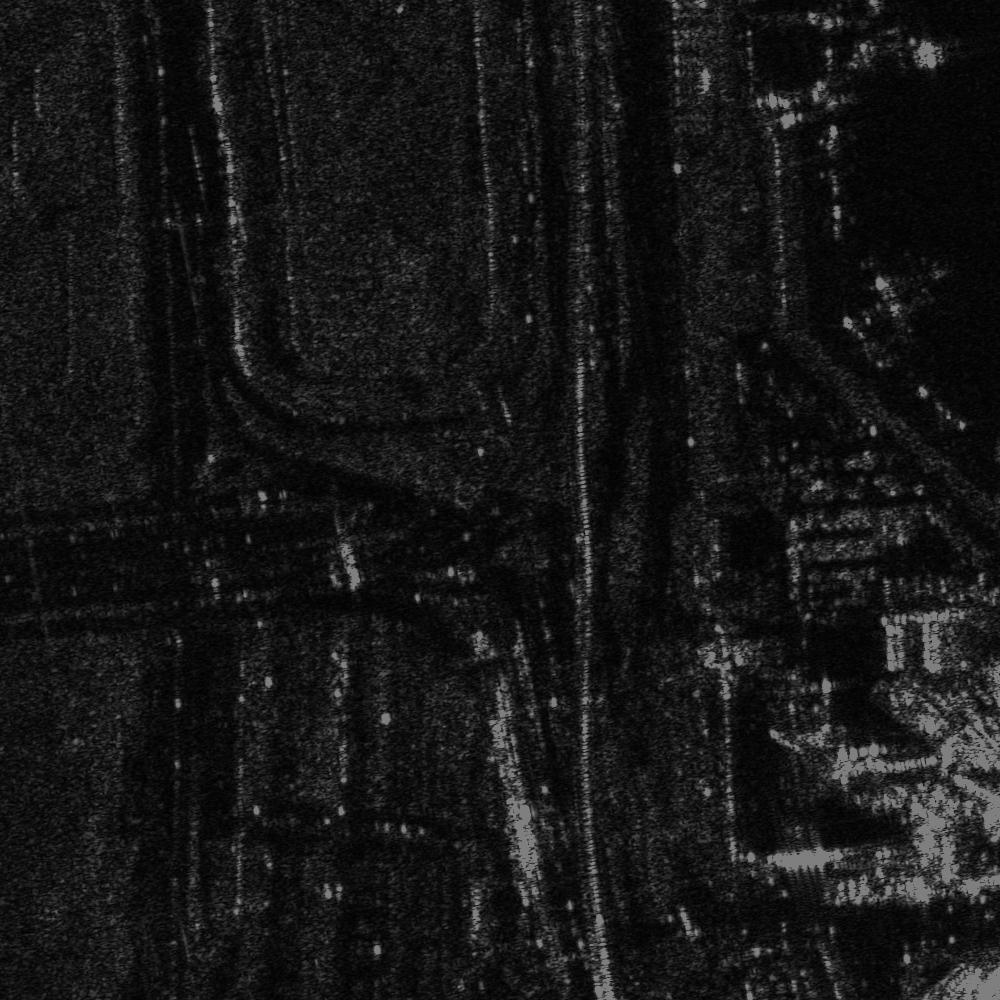A220: (861, 261, 951, 335)
